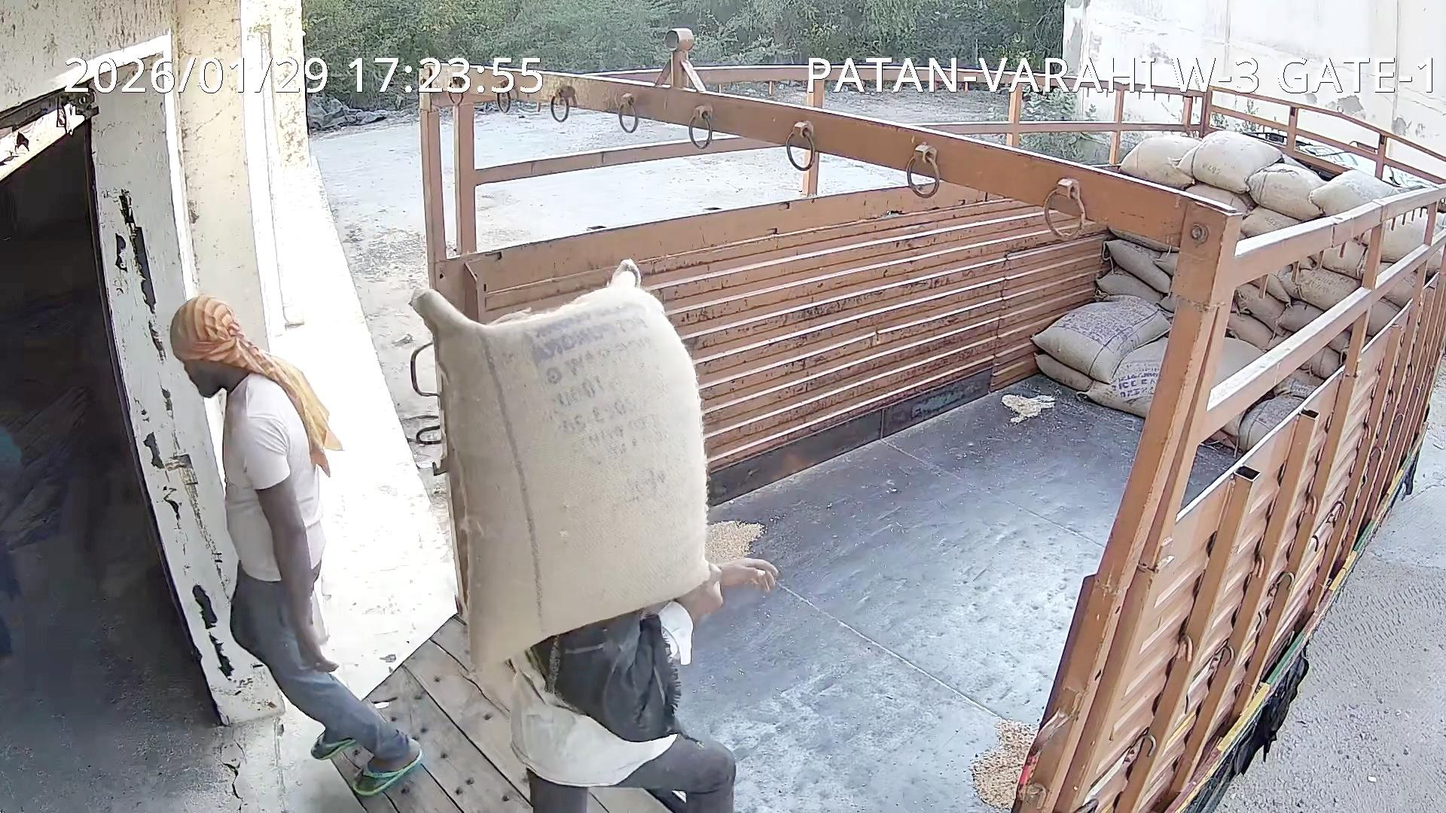Sack: (413, 260, 707, 666)
